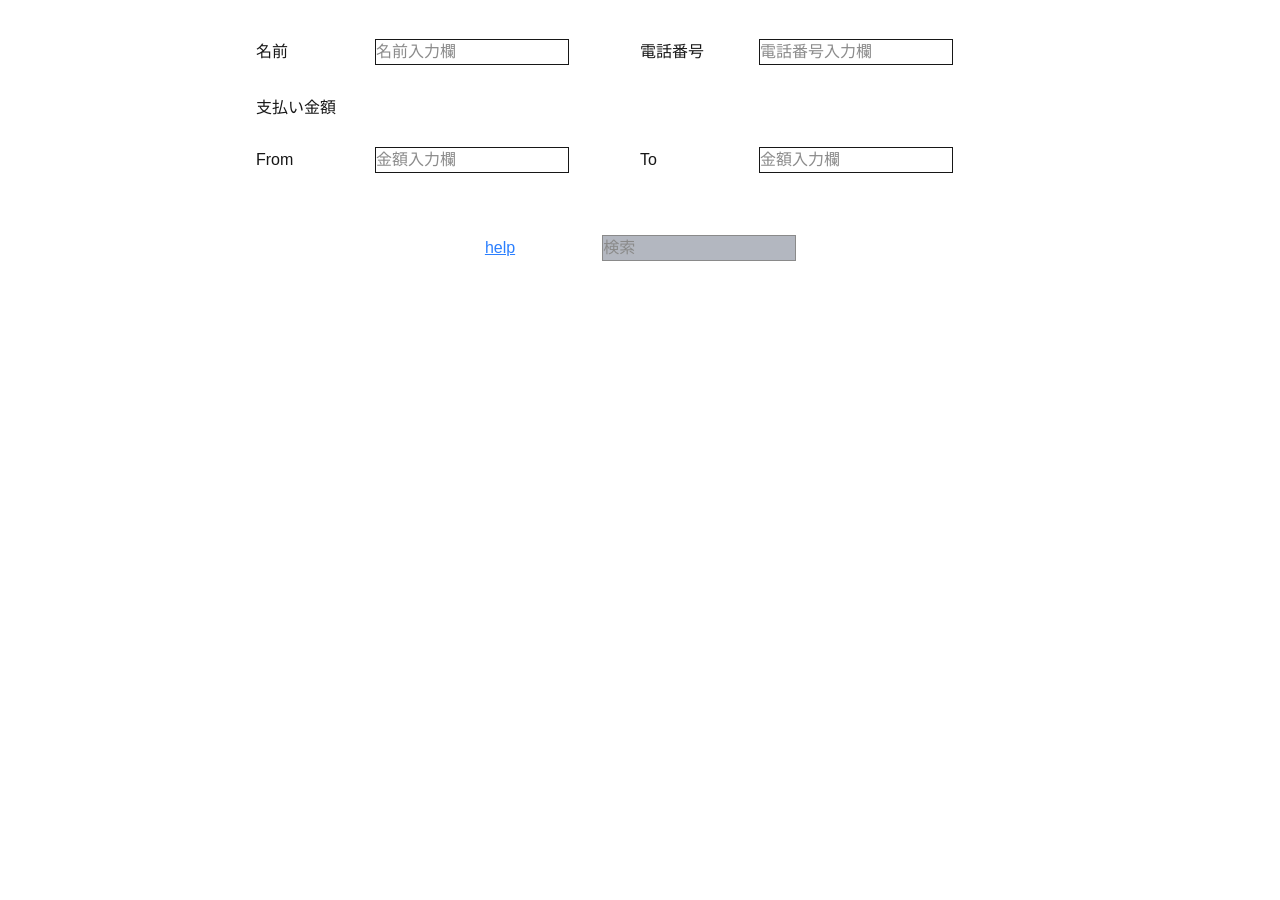
it: SearchPanel › helpボタンをクリックするとモーダルが開かれること
Expected: the text "モーダル" is not shown
# helpボタンを見つけてクリック
Click the button "help": click(500, 248) [485,236,515,260]
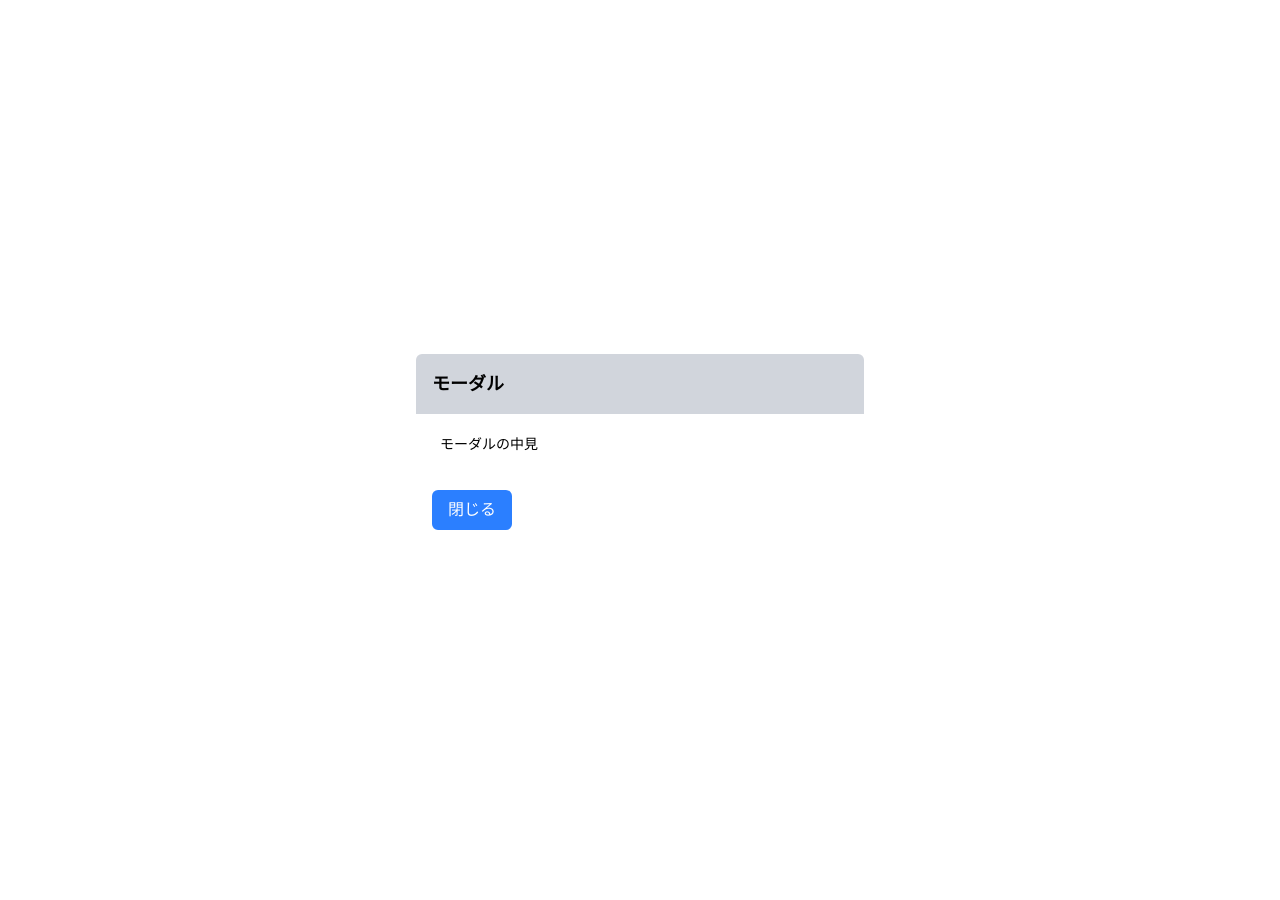
Now the heading "モーダル" is shown, box [432,374,504,394]
